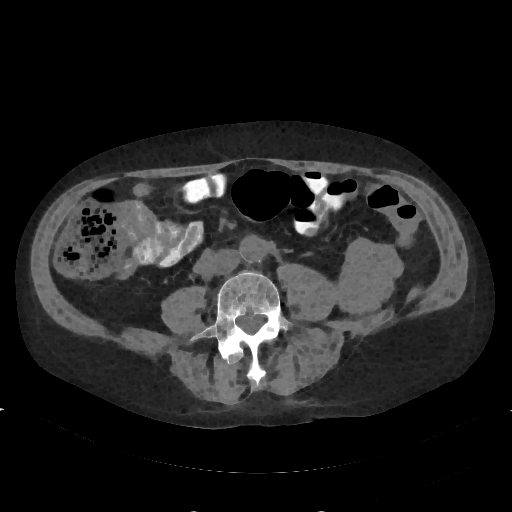Lesion: (340, 232, 405, 318)
